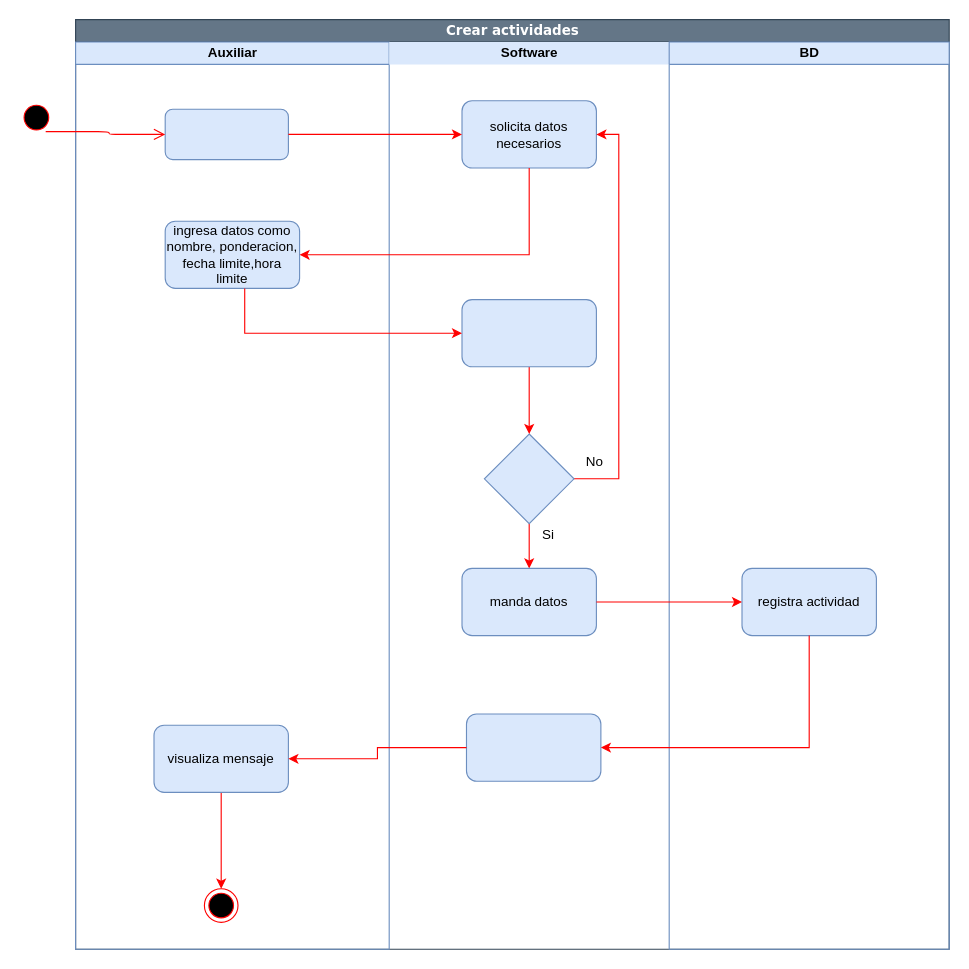
Image size: 969x969. Some labels were removed from this diagram. The centre of each missing label's shape, as x and y in pixels:
"datos correctos?" belongs at point (528, 478).
"ingresa al modulo crear acitividad" belongs at point (226, 134).
"manda mensaje de guardado" belongs at point (533, 747).
"valida datos ingresados" belongs at point (528, 332).
